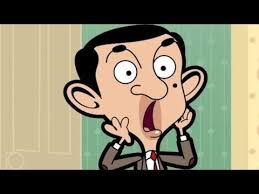mrbean: (63, 25, 209, 170)
